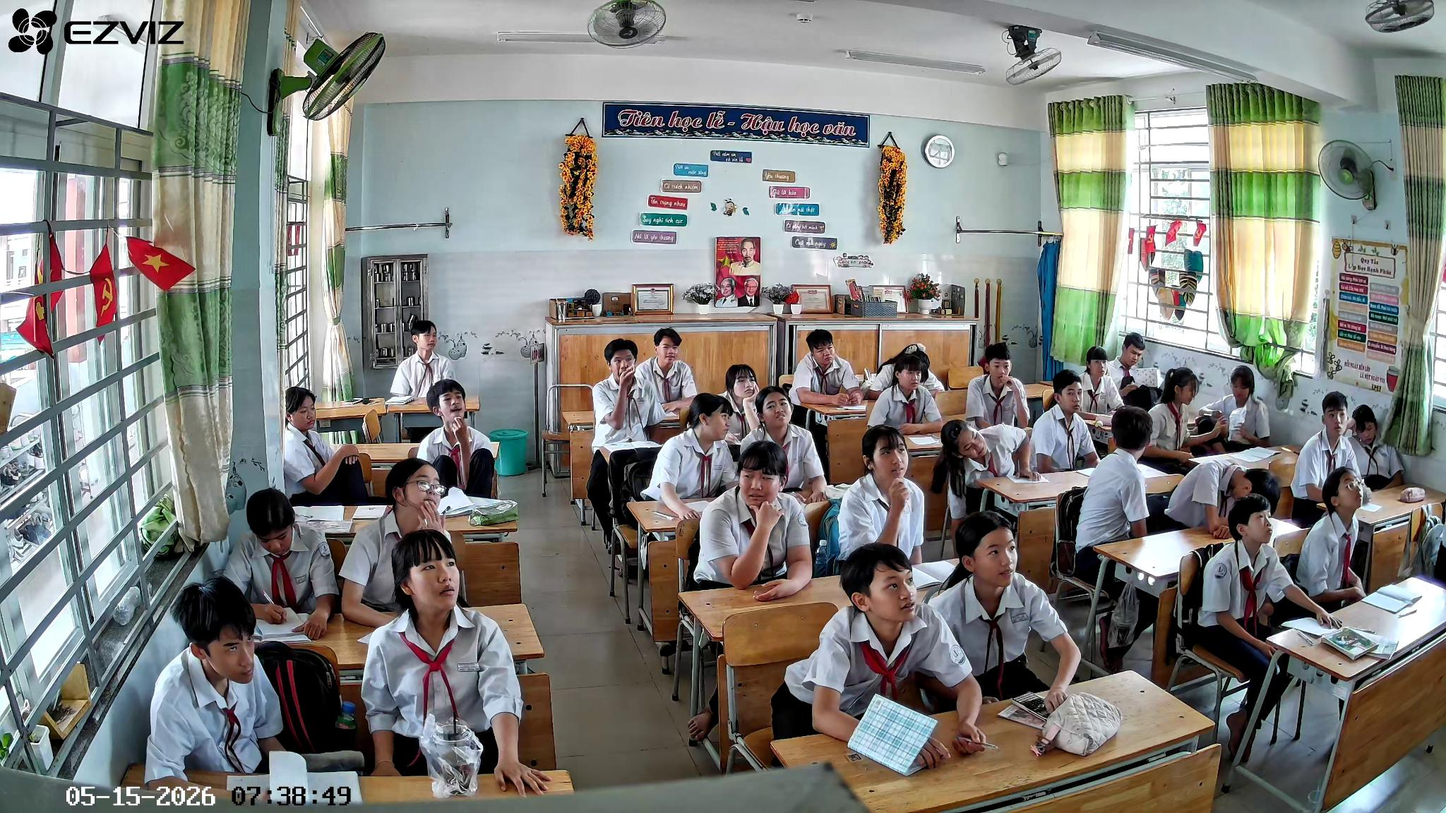person: (362, 529, 553, 797), (770, 542, 987, 771), (141, 578, 366, 786), (1197, 493, 1344, 763), (930, 510, 1083, 714), (338, 457, 460, 627), (206, 487, 340, 640), (694, 441, 814, 603), (1072, 406, 1149, 615), (930, 419, 1041, 552), (590, 339, 667, 521), (834, 425, 927, 569), (1291, 466, 1377, 616), (641, 393, 740, 522), (407, 379, 500, 502), (282, 385, 372, 507), (738, 387, 829, 505), (1289, 391, 1365, 527), (1139, 367, 1230, 474), (1166, 459, 1281, 540), (788, 330, 863, 442), (1030, 369, 1101, 473), (866, 352, 945, 437), (1198, 366, 1272, 452), (964, 342, 1030, 431), (390, 319, 458, 403), (635, 328, 699, 417), (1347, 406, 1411, 491), (862, 343, 946, 398), (1077, 346, 1128, 418), (720, 364, 762, 448), (1105, 333, 1149, 397)
